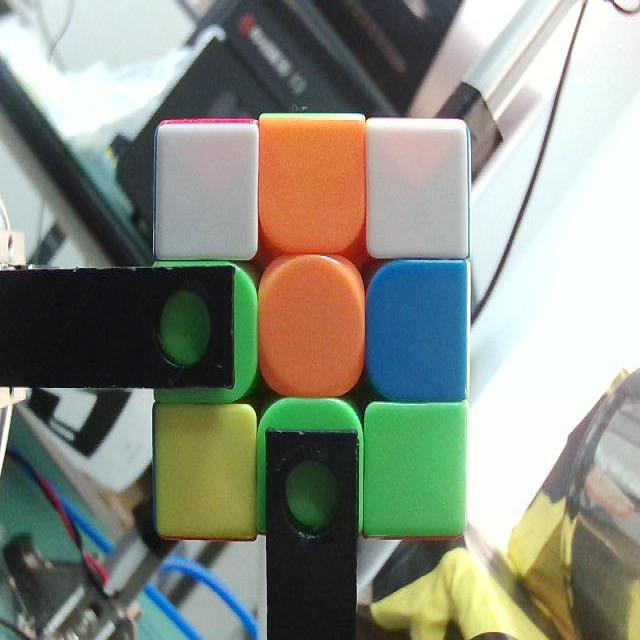b: (367, 263, 466, 400)
g: (155, 260, 255, 405), (363, 404, 465, 540), (262, 403, 362, 535)
o: (259, 262, 365, 399), (261, 118, 362, 255)
w: (367, 120, 467, 258), (159, 126, 256, 258)
y: (156, 408, 252, 534)
